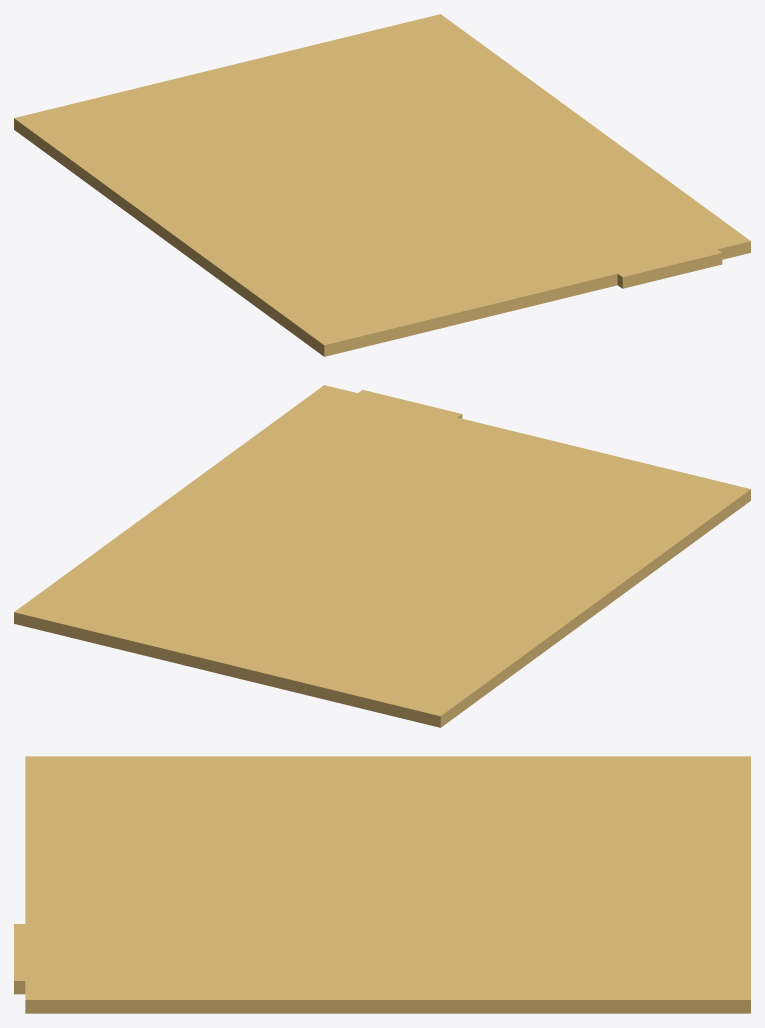
The model's file is Joglo_part_181.fbx.
The picture shows the model from 3 angles, top to bottom: view 1: azimuth 30°, elevation 25°; view 2: azimuth 150°, elevation 25°; view 3: azimuth 270°, elevation 25°; orthographic projection. The views are drawn at different scales.
Visible parts, largest first — view 1: Mesh25_Paint___Golden_Ochre_0.001; view 2: Mesh25_Paint___Golden_Ochre_0.001; view 3: Mesh25_Paint___Golden_Ochre_0.001.
Boxes of the visible parts, <box> form: Mesh25_Paint___Golden_Ochre_0.001: <box>14,14,750,356</box>; Mesh25_Paint___Golden_Ochre_0.001: <box>14,385,750,727</box>; Mesh25_Paint___Golden_Ochre_0.001: <box>14,756,750,1013</box>.
Size of the model in its own units: 152 by 3.94 by 194.
